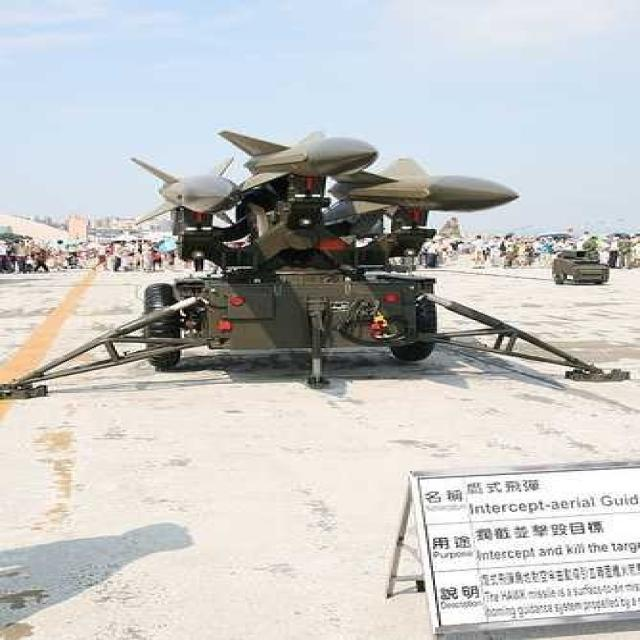missile: (217, 131, 390, 192), (335, 163, 523, 214), (127, 154, 246, 223)
